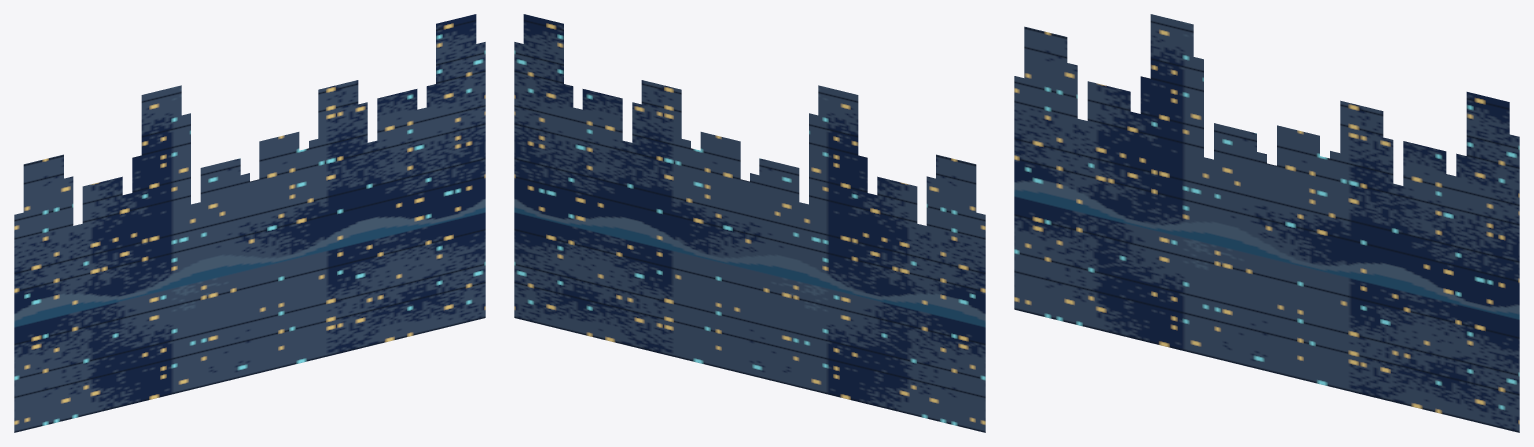
File: cysky.stepped.glb
3 views of the same model, side by side, from view 1: azimuth 30°, elevation 25°; view 2: azimuth 150°, elevation 25°; view 3: azimuth 330°, elevation 25° (orthographic). The views are drawn at different scales.
Visible parts, largest first — view 1: kit_card_skyline; view 2: kit_card_skyline; view 3: kit_card_skyline.
Boxes of the visible parts, x1,y1,x2,y2 form: kit_card_skyline: (14,14,485,432); kit_card_skyline: (514,14,985,432); kit_card_skyline: (1014,14,1519,432).
Size of the model in its own units: 56 by 34.84 by 0.
1 material, 1 textured.
